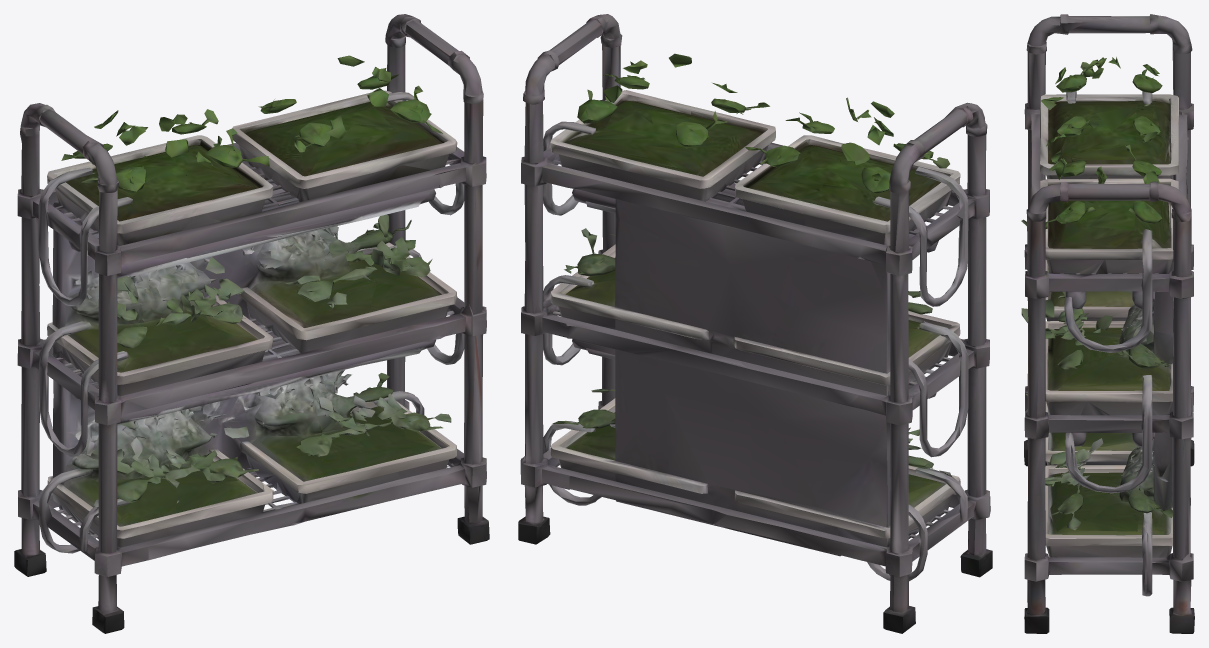
File: hydro_rack_malaya_idle.glb
3 renders of one model, left to right at view 1: azimuth 30°, elevation 25°; view 2: azimuth 150°, elevation 25°; view 3: azimuth 270°, elevation 25°, orthographic. The views are drawn at different scales.
Parts seen in each view (by area): view 1: tripo_node_7182c1a3-8586-4d04-9404-2b251d545110; view 2: tripo_node_7182c1a3-8586-4d04-9404-2b251d545110; view 3: tripo_node_7182c1a3-8586-4d04-9404-2b251d545110.
Part boxes in pixels (box(x1,y1,x2,y2)): tripo_node_7182c1a3-8586-4d04-9404-2b251d545110: box(14, 14, 489, 633); tripo_node_7182c1a3-8586-4d04-9404-2b251d545110: box(518, 14, 992, 633); tripo_node_7182c1a3-8586-4d04-9404-2b251d545110: box(1021, 14, 1194, 633).
Bounding box in the file's own units: 1.55 × 1.8 × 0.6342.
Materials: 1 (1 with a texture image).
